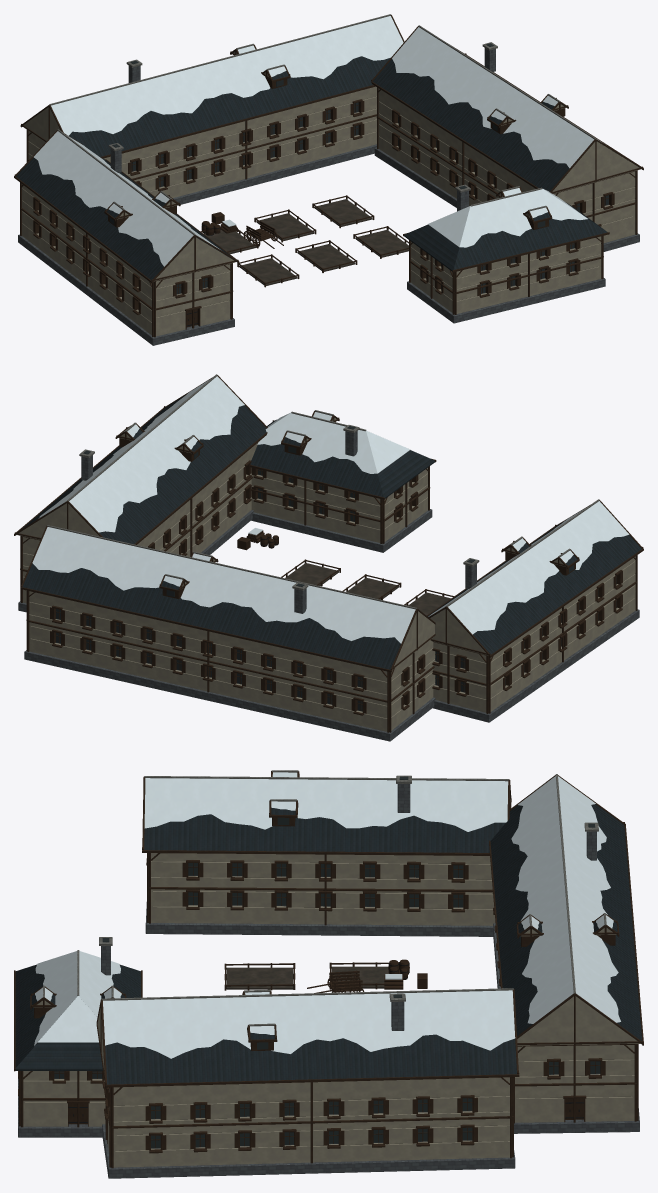
File: family_quarters.glb
3 renders of one model, top to bottom at view 1: azimuth 30°, elevation 25°; view 2: azimuth 150°, elevation 25°; view 3: azimuth 270°, elevation 25°, orthographic. The views are drawn at different scales.
Visible parts, largest first — view 1: ENV_R5_Plaster, ENV_R5_Snow, ENV_R5_Slate, ENV_R5_Timber, ENV_R5_Stone, ENV_R5_Earth, ENV_R5_Trim, ENV_R5_Dark; view 2: ENV_R5_Plaster, ENV_R5_Snow, ENV_R5_Slate, ENV_R5_Timber, ENV_R5_Stone, ENV_R5_Trim, ENV_R5_Dark, ENV_R5_Earth; view 3: ENV_R5_Plaster, ENV_R5_Snow, ENV_R5_Slate, ENV_R5_Timber, ENV_R5_Stone, ENV_R5_Dark, ENV_R5_Trim, ENV_R5_Earth.
Part boxes in pixels (<box>): ENV_R5_Plaster: <box>22,52,641,336</box>; ENV_R5_Snow: <box>34,16,602,266</box>; ENV_R5_Slate: <box>16,51,642,280</box>; ENV_R5_Timber: <box>14,15,643,337</box>; ENV_R5_Stone: <box>18,48,639,345</box>; ENV_R5_Earth: <box>204,199,408,285</box>; ENV_R5_Trim: <box>49,14,596,235</box>; ENV_R5_Dark: <box>110,43,608,293</box>; ENV_R5_Plaster: <box>16,417,635,731</box>; ENV_R5_Snow: <box>32,376,629,643</box>; ENV_R5_Slate: <box>15,395,641,669</box>; ENV_R5_Timber: <box>14,375,643,732</box>; ENV_R5_Stone: <box>18,431,639,741</box>; ENV_R5_Trim: <box>47,374,599,609</box>; ENV_R5_Dark: <box>56,426,616,711</box>; ENV_R5_Earth: <box>285,563,450,615</box>; ENV_R5_Plaster: <box>23,799,640,1167</box>; ENV_R5_Snow: <box>34,772,620,1058</box>; ENV_R5_Slate: <box>15,804,642,1084</box>; ENV_R5_Timber: <box>14,771,643,1168</box>; ENV_R5_Stone: <box>18,784,639,1178</box>; ENV_R5_Dark: <box>33,776,600,1148</box>; ENV_R5_Trim: <box>43,770,606,1026</box>; ENV_R5_Earth: <box>226,966,389,989</box>.
Bounding box in the file's own units: 74.13 × 18.67 × 65.91.
9 materials, 8 textured.
